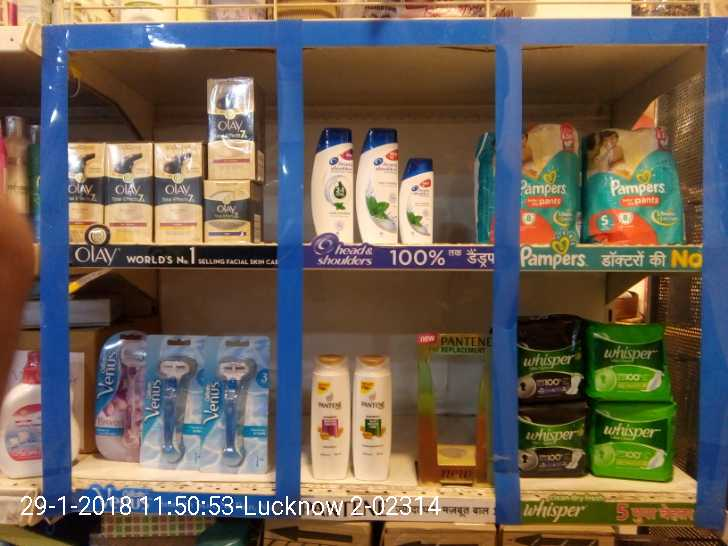venus: (203, 335, 267, 468), (146, 333, 203, 468), (93, 333, 146, 461)
